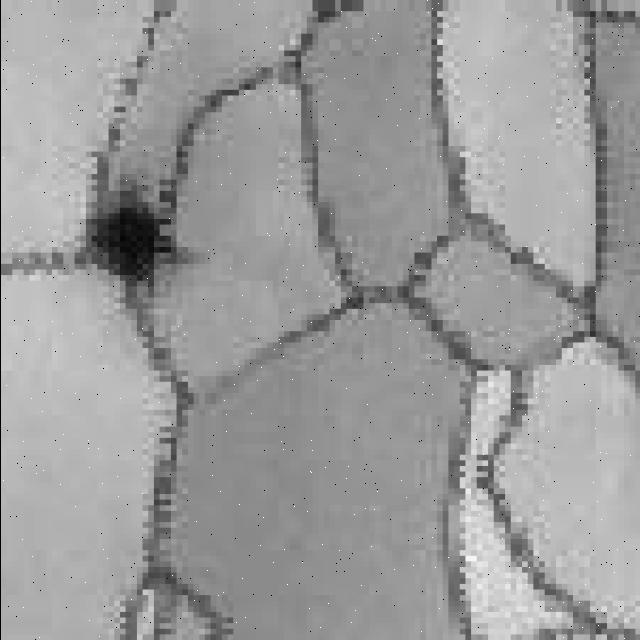good_void: (80, 189, 211, 291)
